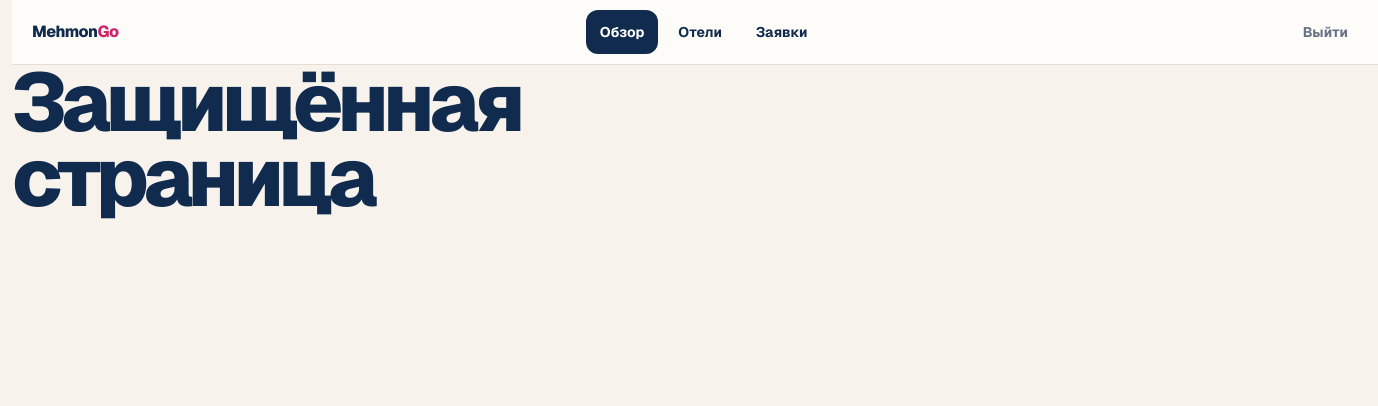
Test: AdminShell › rechecks access and offers a retry when sign-out fails
The image size is (1378, 406).
Click the button "Выйти": (1325, 32) 1289,10 -> 1362,54
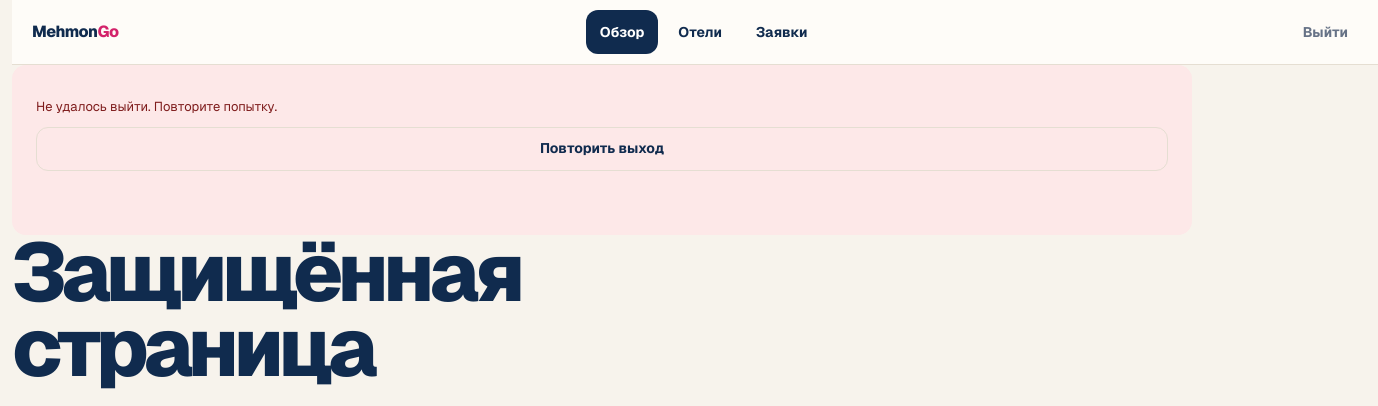
Expected: the heading "Защищённая страница" is shown, 12,234 -> 602,385
Now the message shows "Не удалось выйти. Повторите попытку.", box 36,98 -> 277,115
Now the button "Повторить выход" is shown, box 36,126 -> 1168,170
